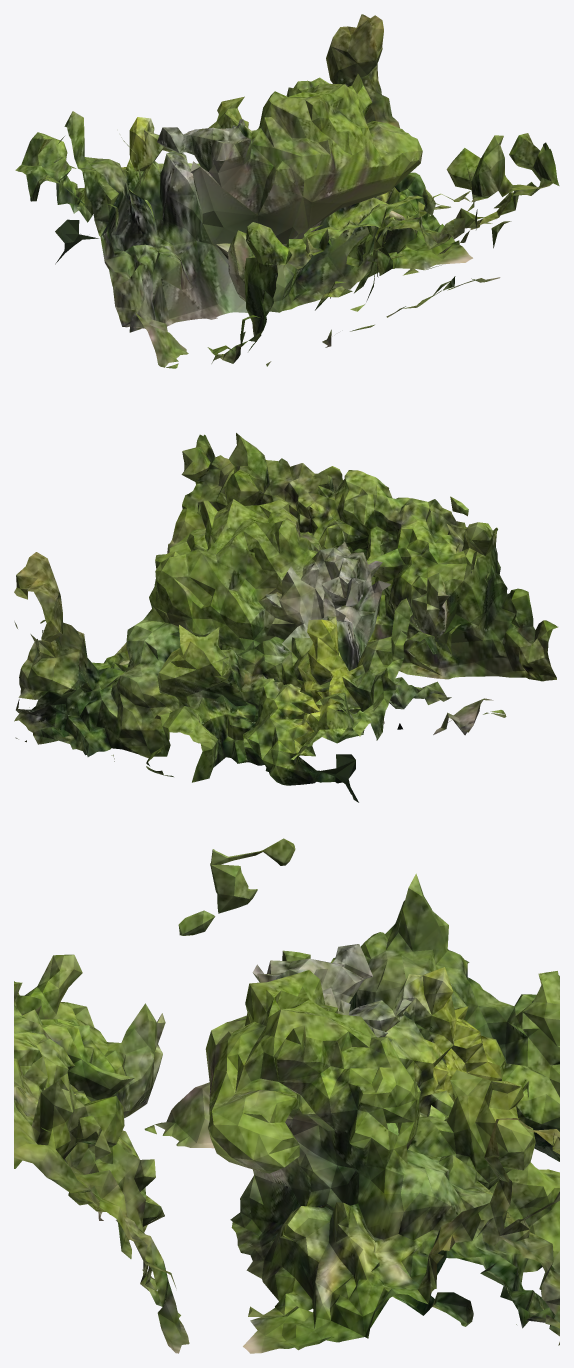
The picture shows the model from 3 angles, top to bottom: view 1: azimuth 30°, elevation 25°; view 2: azimuth 150°, elevation 25°; view 3: azimuth 270°, elevation 25°; orthographic projection. The views are drawn at different scales.
Bounding box in the file's own units: 26.11 × 15.01 × 26.11.
7 materials, 7 textured.
